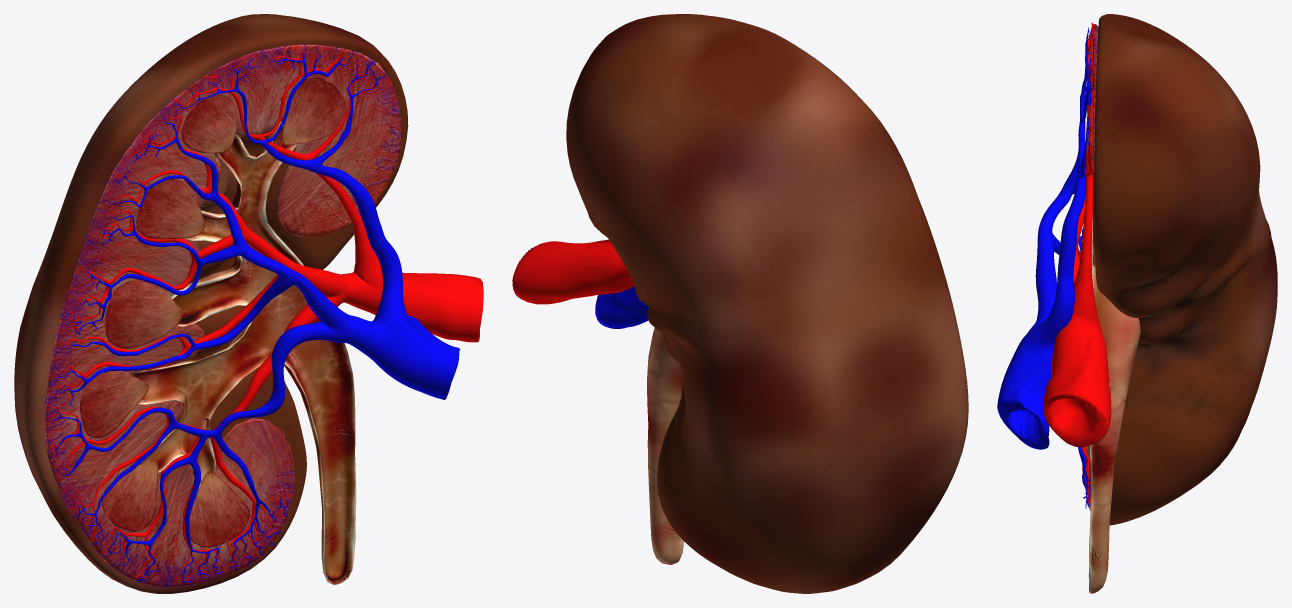
3 renders of one model, left to right at view 1: azimuth 30°, elevation 25°; view 2: azimuth 150°, elevation 25°; view 3: azimuth 270°, elevation 25°, orthographic. The views are drawn at different scales.
Parts seen in each view (by area): view 1: Maya_2018:Cortex, Maya_2018:Capsule, Maya_2018:Ureter, Maya_2018:BLUE, Maya_2018:Medulla pyramid, Maya_2018:RED; view 2: Maya_2018:Capsule, Maya_2018:RED, Maya_2018:Ureter, Maya_2018:BLUE; view 3: Maya_2018:Capsule, Maya_2018:BLUE, Maya_2018:RED, Maya_2018:Ureter, Maya_2018:Cortex.
Boxes of the visible parts, x1,y1,x2,y2 form: Maya_2018:Cortex: (44,44,401,587); Maya_2018:Capsule: (14,14,408,593); Maya_2018:Ureter: (132,121,356,584); Maya_2018:BLUE: (51,53,459,584); Maya_2018:Medulla pyramid: (80,76,346,547); Maya_2018:RED: (49,46,483,583); Maya_2018:Capsule: (566,14,968,593); Maya_2018:RED: (512,57,814,304); Maya_2018:Ureter: (647,328,684,564); Maya_2018:BLUE: (595,286,648,328); Maya_2018:Capsule: (1094,14,1277,525); Maya_2018:BLUE: (997,27,1092,509); Maya_2018:RED: (1043,22,1111,509); Maya_2018:Ureter: (1088,211,1140,593); Maya_2018:Cortex: (1086,24,1098,503).
Size of the model in its own units: 8.47 by 10.1 by 4.88.
Materials: 6 (4 with a texture image).
